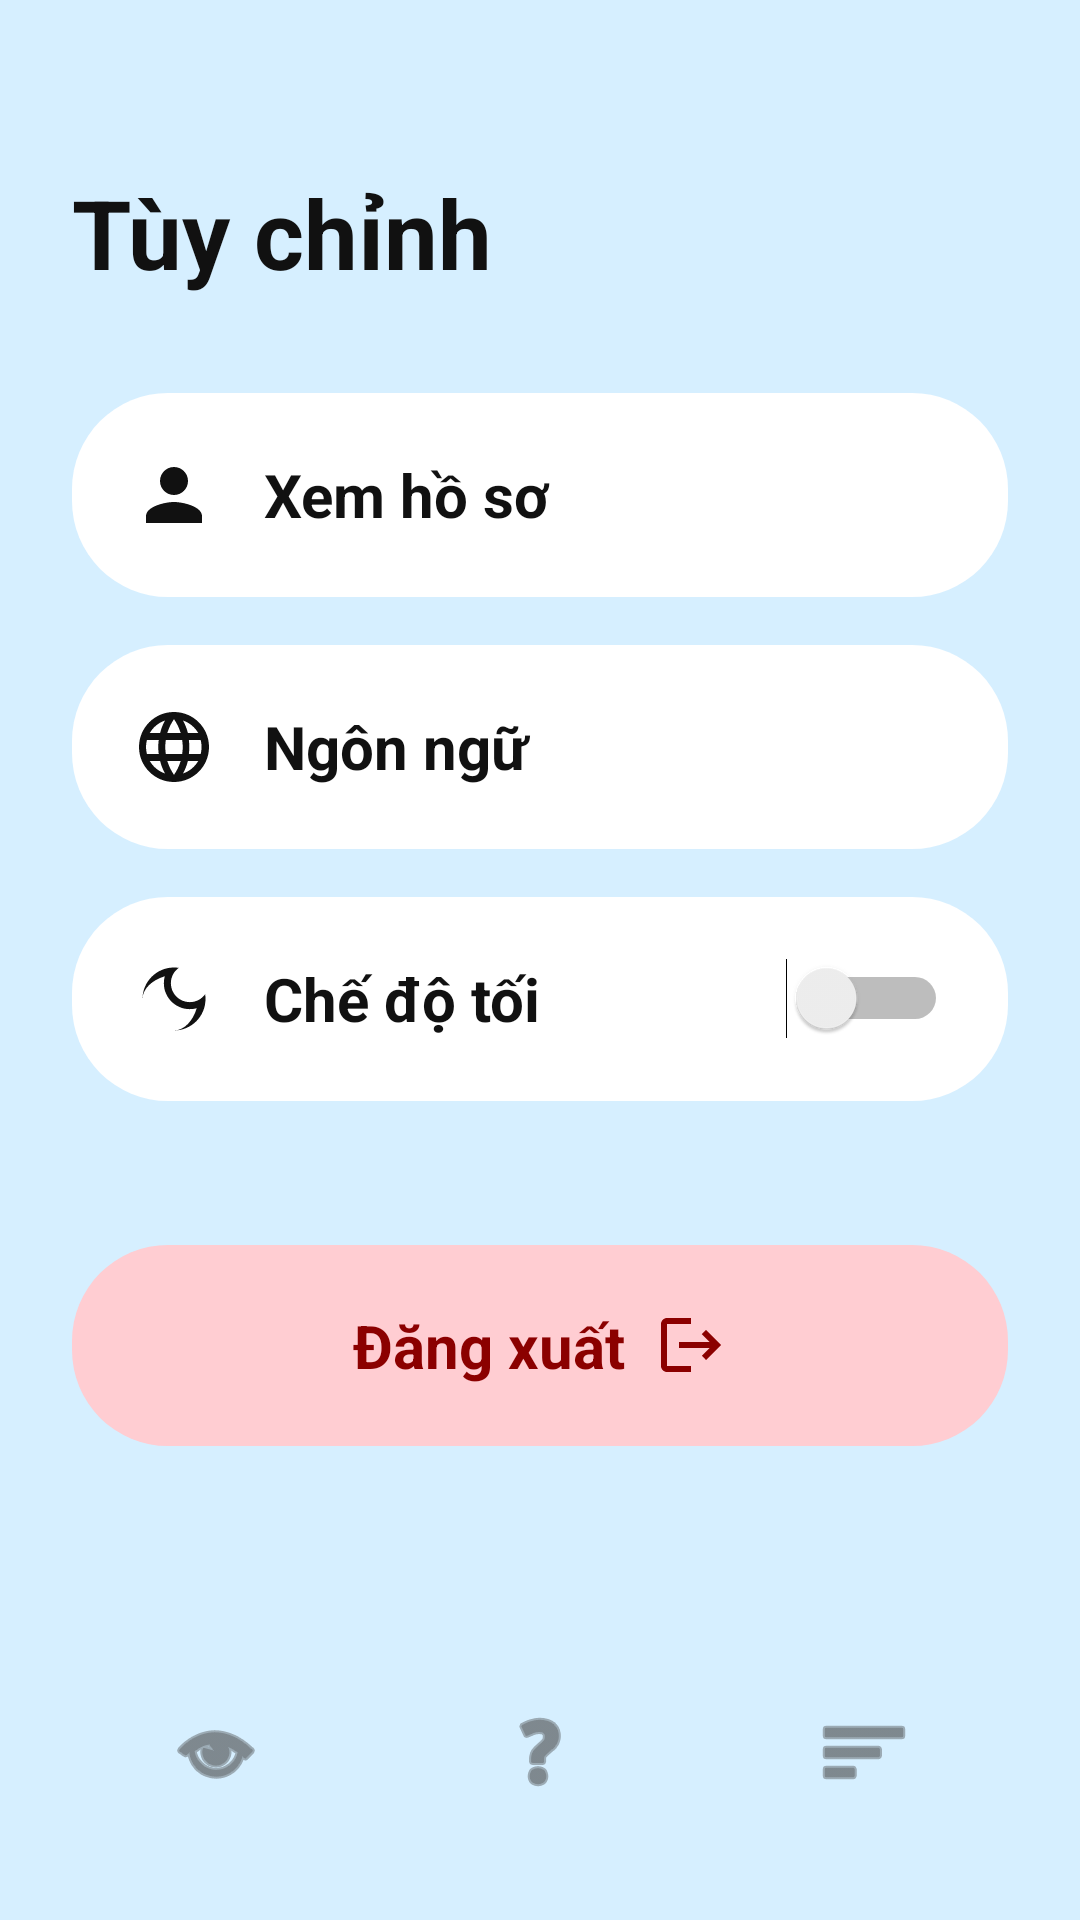

Screen size 1080w x 1920h. Icon name, then its box in pixels as (x1, y1, x2, y2):
help: (519, 1718, 561, 1786)
language: (139, 712, 209, 782)
mode: (142, 967, 206, 1031)
person: (146, 467, 202, 523)
sort by size: (823, 1726, 905, 1779)
view: (177, 1730, 255, 1779)
